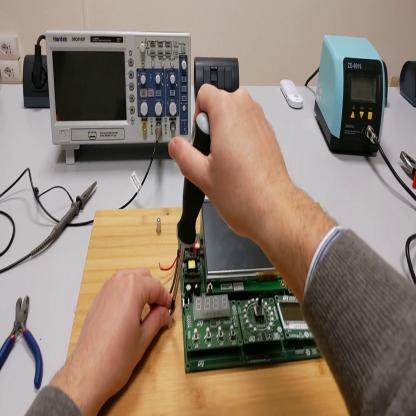hand: (170, 82, 291, 245), (76, 267, 175, 399)
low voltage board: (159, 201, 323, 375)
oscilloscope: (45, 33, 194, 167)
oscilloscope probe tip: (32, 183, 98, 257)
pliers: (1, 297, 43, 390), (399, 149, 416, 189)
screwdriver-: (169, 114, 212, 314)
socket: (25, 53, 52, 110), (401, 60, 416, 110), (384, 62, 388, 107)
welder station: (317, 37, 387, 158)
working area: (67, 209, 348, 416)
